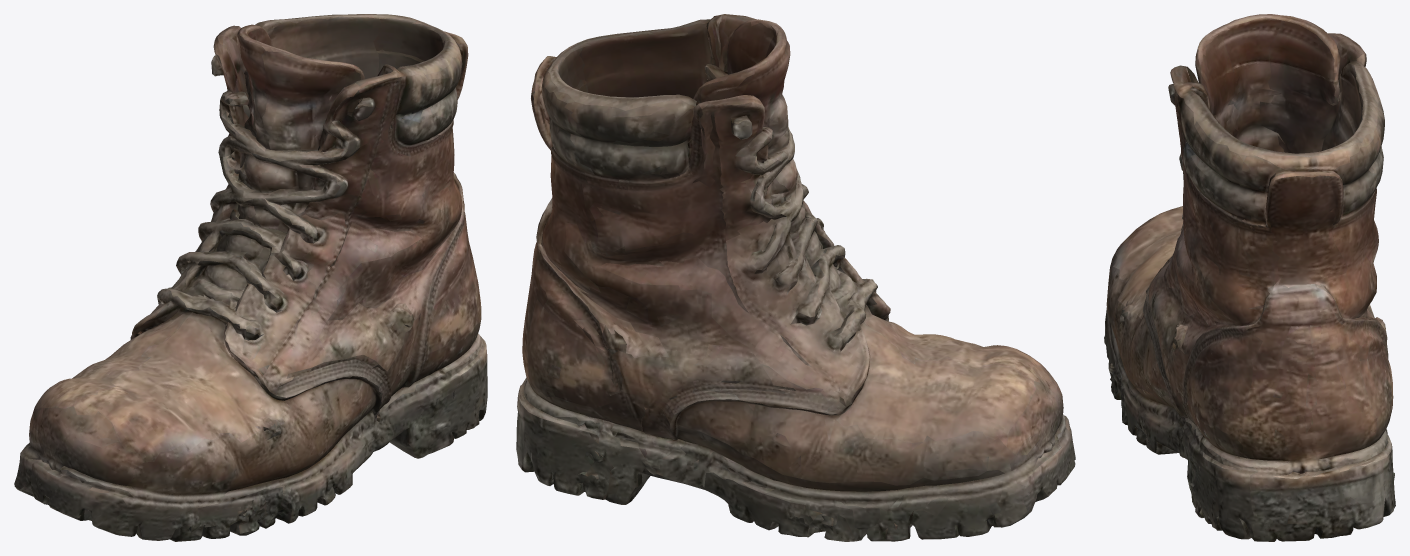
Rendered from muddy-boot.glb.
The picture shows the model from 3 angles, left to right: view 1: azimuth 30°, elevation 25°; view 2: azimuth 150°, elevation 25°; view 3: azimuth 270°, elevation 25°; orthographic projection. The views are drawn at different scales.
Visible parts, largest first — view 1: geometry_0; view 2: geometry_0; view 3: geometry_0.
Part boxes in pixels (x1,y1,x2,y2): geometry_0: (14,14,487,541); geometry_0: (516,14,1075,541); geometry_0: (1104,14,1395,541).
Bounding box in the file's own units: 0.3 × 0.261 × 0.1614.
Materials: 1 (1 with a texture image).
